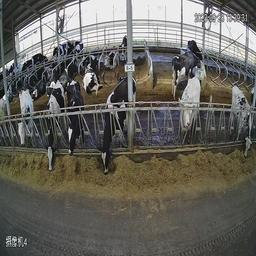cow: (99, 75, 141, 169), (176, 79, 211, 154), (64, 80, 89, 162), (227, 83, 251, 167), (15, 89, 40, 169), (44, 80, 63, 172), (166, 44, 203, 81), (30, 66, 52, 104), (85, 52, 103, 96), (118, 32, 136, 67), (102, 40, 121, 72)
